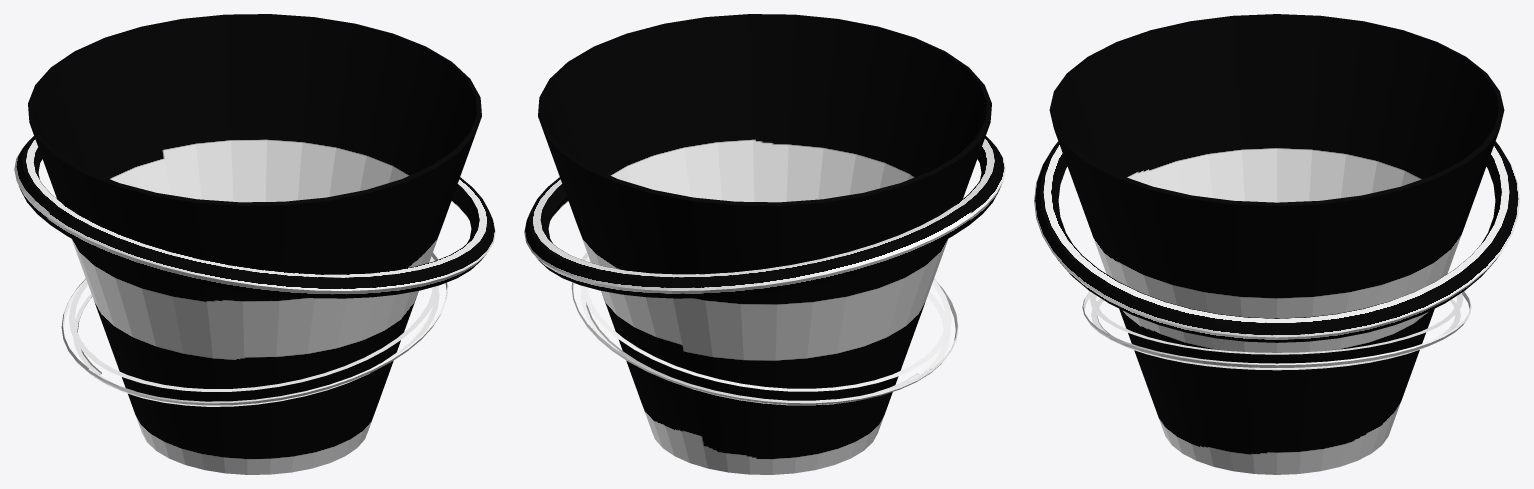
The model's file is Tornado.obj.
The picture shows the model from 3 angles, left to right: view 1: azimuth 30°, elevation 25°; view 2: azimuth 150°, elevation 25°; view 3: azimuth 270°, elevation 25°; orthographic projection.
Parts seen in each view (by area): view 1: 円柱, トーラス.001, トーラス.002; view 2: 円柱, トーラス.001, トーラス.002; view 3: 円柱, トーラス.001, トーラス.002.
Boxes of the visible parts, <box> form: 円柱: <box>28,14,481,474</box>; トーラス.001: <box>14,136,495,298</box>; トーラス.002: <box>61,253,448,406</box>; 円柱: <box>538,14,991,474</box>; トーラス.001: <box>524,136,1005,298</box>; トーラス.002: <box>571,253,958,405</box>; 円柱: <box>1049,14,1504,474</box>; トーラス.001: <box>1034,141,1519,342</box>; トーラス.002: <box>1082,291,1471,370</box>.
Bounding box in the file's own units: 2.74 × 2.01 × 2.78.
